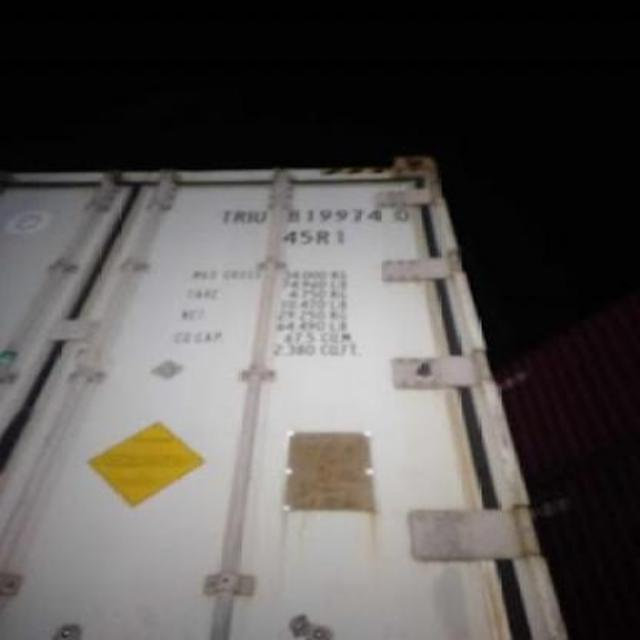0: (392, 206, 414, 224)
1: (302, 200, 318, 227)
4: (366, 199, 384, 225)
7: (348, 208, 366, 228)
8: (286, 204, 300, 228)
9: (316, 204, 336, 228), (332, 204, 348, 228)
I: (246, 204, 254, 230)
R: (230, 205, 243, 231)
T: (220, 201, 232, 225)
U: (254, 206, 270, 230)
